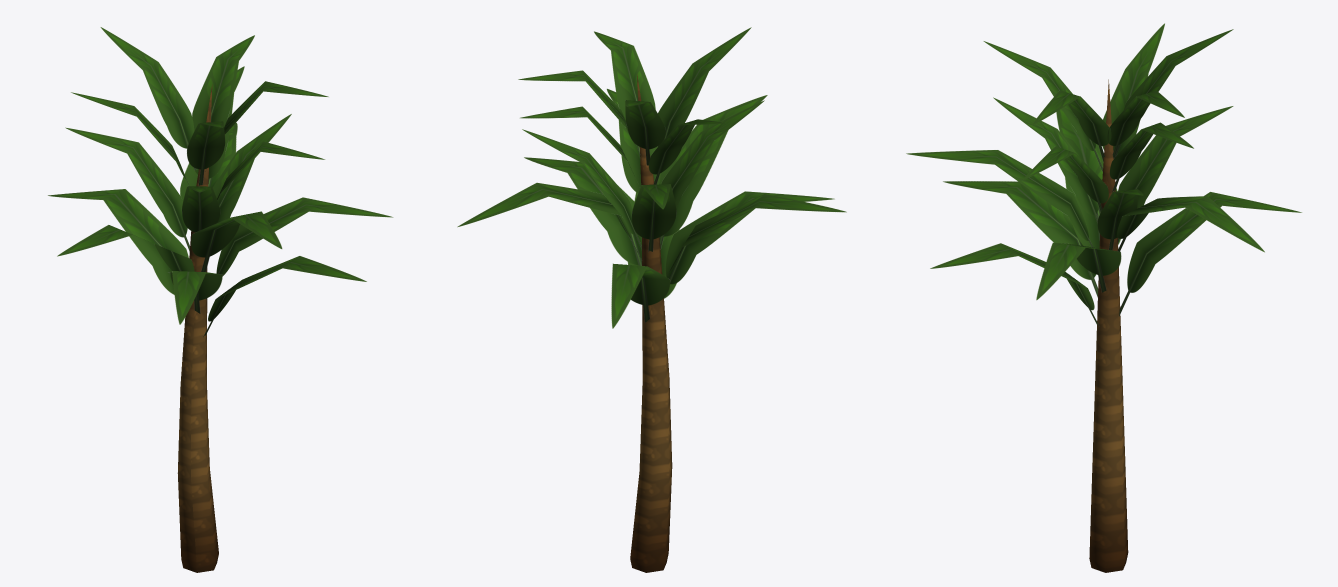
The model's file is Tree10.glb.
3 renders of one model, left to right at view 1: azimuth 30°, elevation 25°; view 2: azimuth 150°, elevation 25°; view 3: azimuth 270°, elevation 25°, orthographic. The views are drawn at different scales.
Visible parts, largest first — view 1: Tree_22a; view 2: Tree_22a; view 3: Tree_22a.
Boxes of the visible parts, x1,y1,x2,y2 form: Tree_22a: (48,27,393,572); Tree_22a: (457,27,846,572); Tree_22a: (906,23,1301,572).
Size of the model in its own units: 26.91 by 36.05 by 27.03.
Materials: 1 (1 with a texture image).
